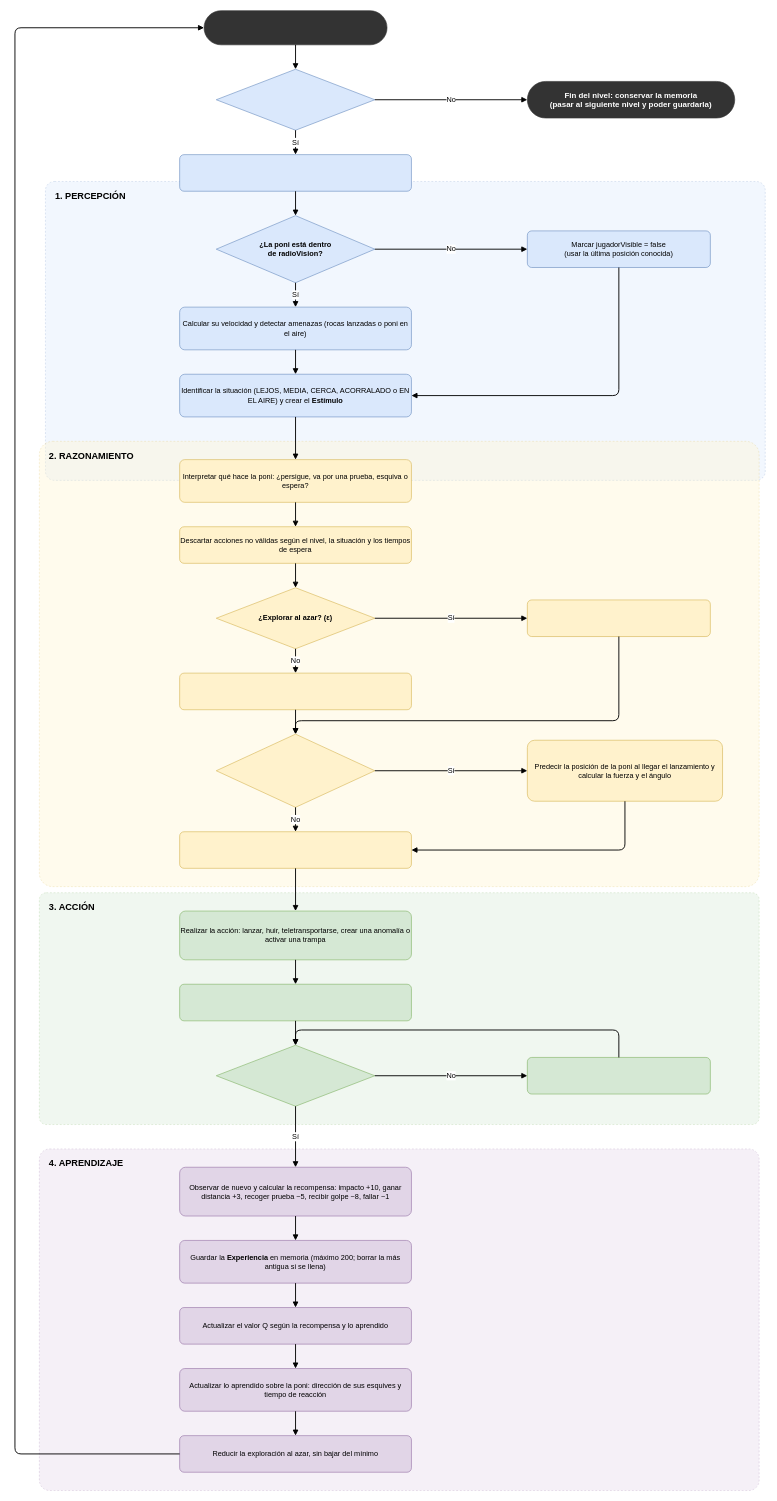
Some shapes in this 777 by 1501 pixel diagram are drawn without their labels. Each missing label, with the centre of its shape:
"Activar el tiempo de espera y observar (≈1,5 s o hasta el impacto)" goes at [295,1002].
"Aprovechar lo aprendido: elegir la acción con mejor valor Q" goes at [295,691].
"Crear la Decisión (acción, objetivo, fuerza y ángulo)" goes at [295,849].
"Explorar: elegir al azar una acción válida" goes at [618,618].
"Guardar la posición de la poni en el historial (últimas 10 posiciones)" goes at [295,172].
"Inicio del ciclo (cada 0,25 s)" goes at [295,27].
"Seguir moviéndose y observando (sin tomar otra decisión)" goes at [618,1075].
"¿El nivel sigue en curso?" goes at [295,99].
"¿Se lanzará una granada o una roca?" goes at [295,770].
"¿Terminó la observación?" goes at [295,1075].
